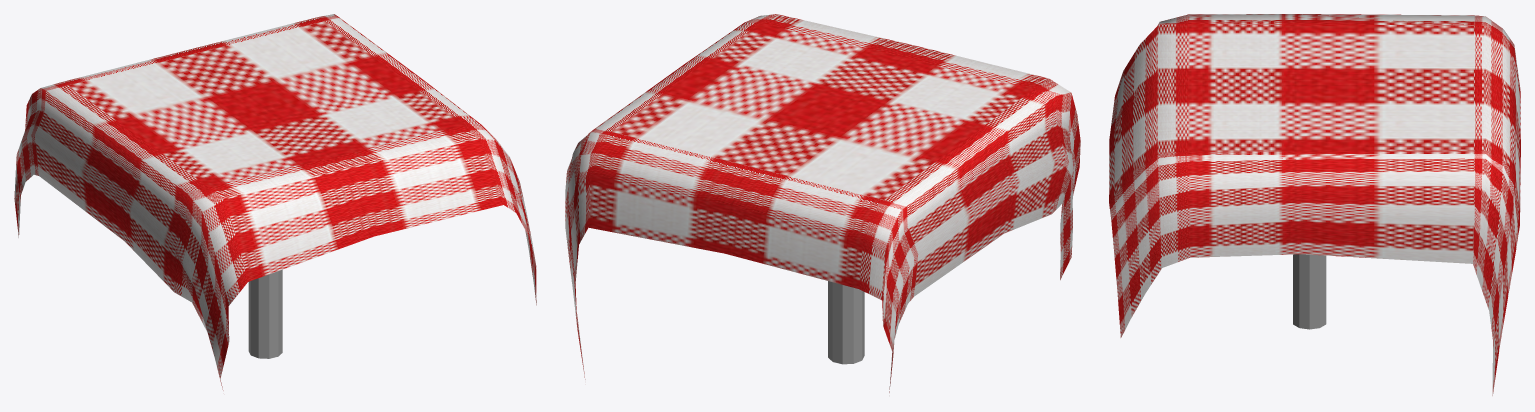
File: Table.fbx
3 views of the same model, side by side, from view 1: azimuth 30°, elevation 25°; view 2: azimuth 150°, elevation 25°; view 3: azimuth 270°, elevation 25° (orthographic). The views are drawn at different scales.
Parts seen in each view (by area): view 1: polySurface4, polySurface1; view 2: polySurface4, polySurface1; view 3: polySurface4, polySurface1.
Boxes of the visible parts, x1=… form: polySurface4: x1=14, y1=14, x2=536, y2=390; polySurface1: x1=248, y1=269, x2=282, y2=358; polySurface4: x1=565, y1=14, x2=1080, y2=392; polySurface1: x1=828, y1=281, x2=864, y2=364; polySurface4: x1=1109, y1=14, x2=1520, y2=395; polySurface1: x1=1293, y1=254, x2=1326, y2=329.
Size of the model in its own units: 37.71 by 25.47 by 39.5.
